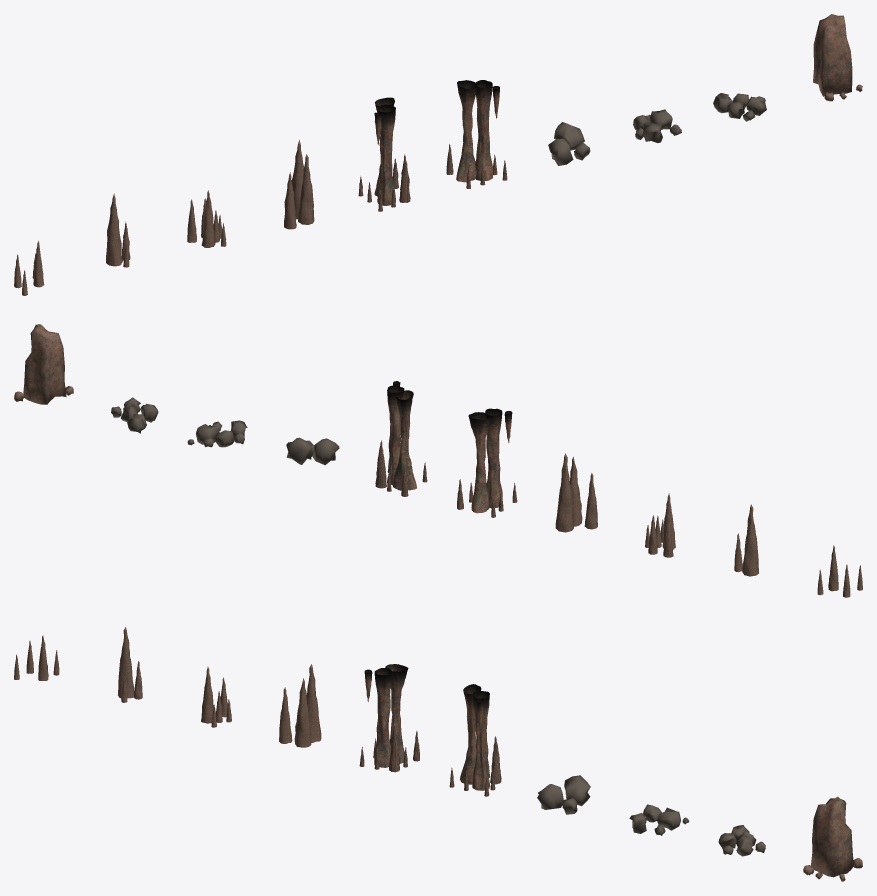
File: cave_objects.glb
3 renders of one model, top to bottom at view 1: azimuth 30°, elevation 25°; view 2: azimuth 150°, elevation 25°; view 3: azimuth 330°, elevation 25°, orthographic.
Parts seen in each view (by area): view 1: stala_pillar2, rubble4, stala_pillar1, stalag4, rubble1, stalag2, stalag1, rubble3, rubble2, stalag3; view 2: stala_pillar1, stala_pillar2, rubble4, stalag4, stalag2, rubble1, rubble2, stalag1, rubble3, stalag3; view 3: stala_pillar1, rubble4, stala_pillar2, stalag4, rubble1, stalag1, rubble2, stalag2, rubble3, stalag3.
Part boxes in pixels (box(x1,y1,x2,y2)): stala_pillar2: box(446, 80, 507, 188); rubble4: box(813, 14, 862, 101); stala_pillar1: box(358, 97, 410, 211); stalag4: box(284, 139, 314, 229); rubble1: box(548, 122, 590, 165); stalag2: box(187, 190, 226, 247); stalag1: box(106, 193, 130, 267); rubble3: box(713, 93, 766, 121); rubble2: box(633, 109, 681, 142); stalag3: box(14, 240, 44, 295); stala_pillar1: box(457, 408, 517, 517); stala_pillar2: box(375, 381, 427, 496); rubble4: box(14, 324, 73, 404); stalag4: box(555, 453, 597, 532); stalag2: box(645, 493, 675, 557); rubble1: box(286, 437, 339, 464); rubble2: box(187, 420, 247, 447); stalag1: box(734, 504, 758, 576); rubble3: box(111, 397, 158, 433); stalag3: box(817, 545, 862, 597); stala_pillar1: box(359, 664, 419, 772); rubble4: box(803, 796, 862, 881); stala_pillar2: box(449, 684, 501, 796); stalag4: box(279, 664, 321, 747); rubble1: box(537, 775, 590, 814); stalag1: box(118, 627, 142, 702); rubble2: box(629, 804, 689, 835); stalag2: box(201, 666, 231, 727); rubble3: box(718, 825, 765, 856); stalag3: box(14, 635, 59, 680).
Bounding box in the file's own units: 37.65 × 4.19 × 2.09.
Materials: 2 (2 with a texture image).
